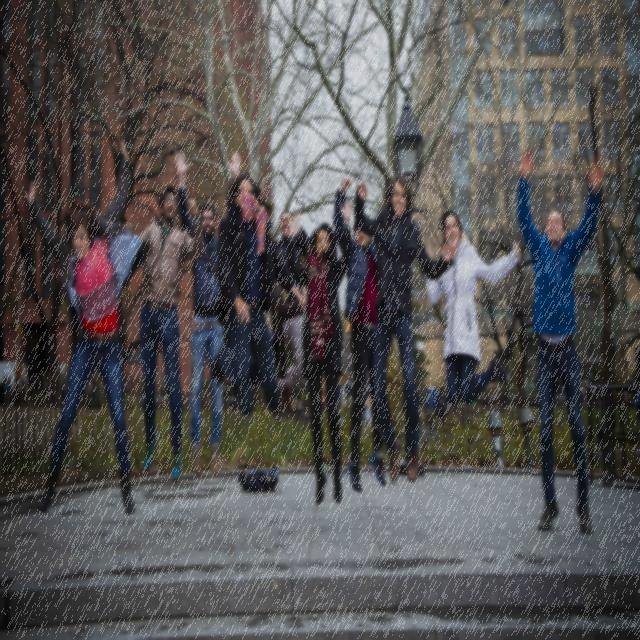pessoa: (24, 140, 154, 519), (516, 145, 610, 536), (353, 172, 455, 486), (122, 183, 206, 487), (174, 148, 242, 478), (210, 168, 308, 396), (285, 199, 354, 507), (422, 207, 522, 408), (332, 176, 388, 494), (262, 207, 306, 412), (265, 209, 308, 411), (436, 386, 444, 436), (344, 394, 354, 434), (500, 372, 508, 413), (137, 381, 143, 411), (363, 390, 368, 422), (21, 379, 26, 408), (0, 380, 5, 408), (349, 378, 354, 401), (5, 378, 10, 397), (45, 382, 49, 405), (346, 378, 350, 400), (338, 383, 342, 405), (95, 383, 100, 399), (61, 384, 65, 401), (88, 378, 91, 397), (126, 383, 130, 395), (161, 387, 164, 397)
